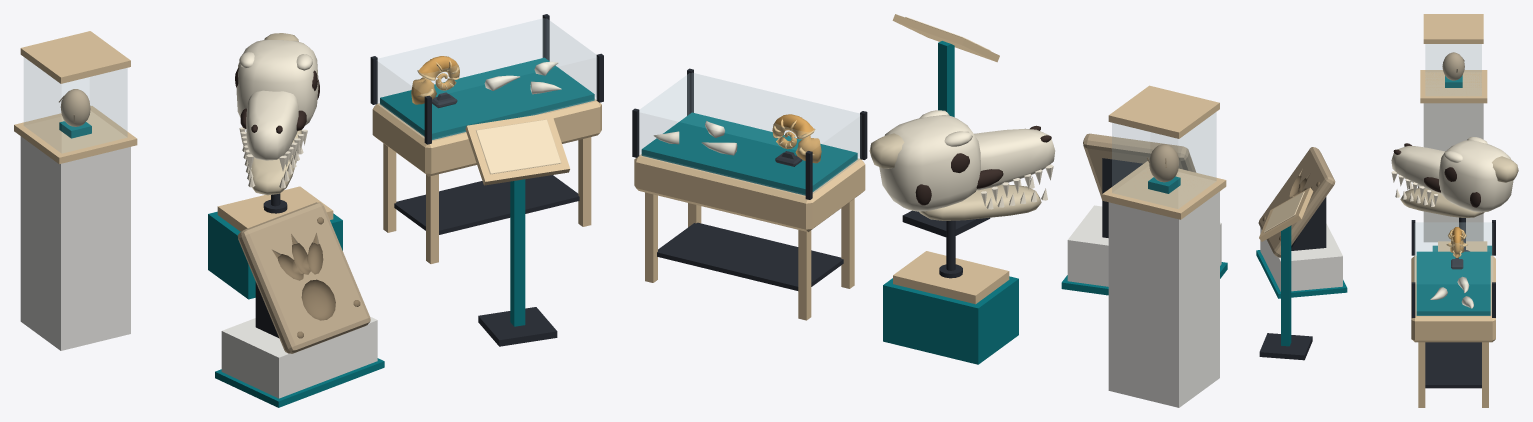
Rendered from museu-moderna.glb.
The picture shows the model from 3 angles, left to right: view 1: azimuth 30°, elevation 25°; view 2: azimuth 150°, elevation 25°; view 3: azimuth 270°, elevation 25°; orthographic projection. The views are drawn at different scales.
Visible parts, largest first — view 1: redoma, vitrine, pegada, cranio, placa, texto; view 2: vitrine, redoma, cranio, pegada, placa; view 3: vitrine, redoma, cranio, pegada, placa, texto.
Part boxes in pixels (x1,y1,x2,y2): redoma: (14, 31, 137, 350); vitrine: (370, 14, 603, 263); pegada: (215, 202, 384, 407); cranio: (208, 33, 342, 299); placa: (465, 112, 569, 346); texto: (476, 119, 561, 174); vitrine: (632, 68, 867, 320); redoma: (1102, 85, 1226, 407); cranio: (869, 110, 1055, 364); pegada: (1061, 133, 1227, 295); placa: (892, 14, 999, 237); vitrine: (1411, 220, 1495, 407); redoma: (1420, 14, 1487, 242); cranio: (1391, 137, 1518, 255); pegada: (1256, 147, 1347, 298); placa: (1259, 187, 1313, 360); texto: (1264, 191, 1304, 232).
Size of the model in its own units: 2.62 by 1.27 by 1.49.
